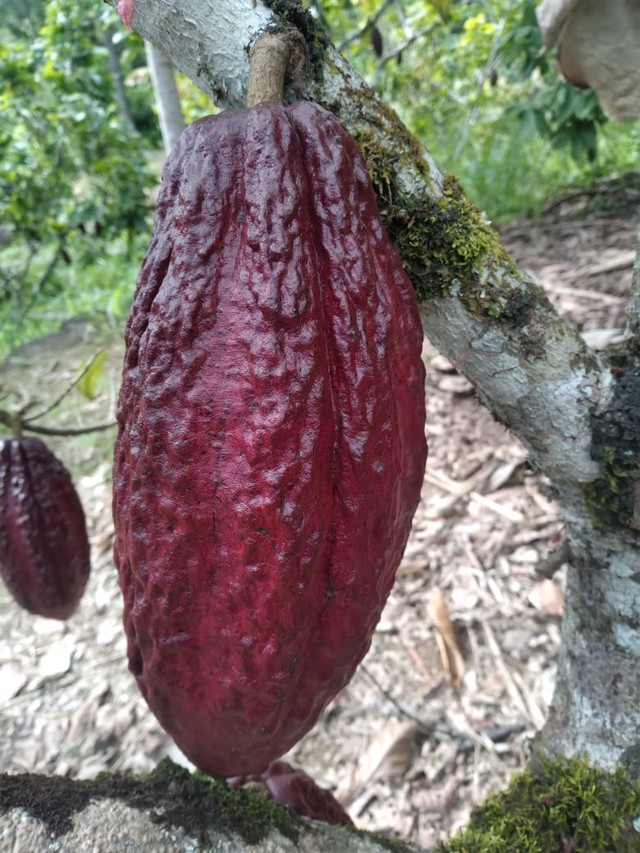Health: (103, 67, 444, 805)
